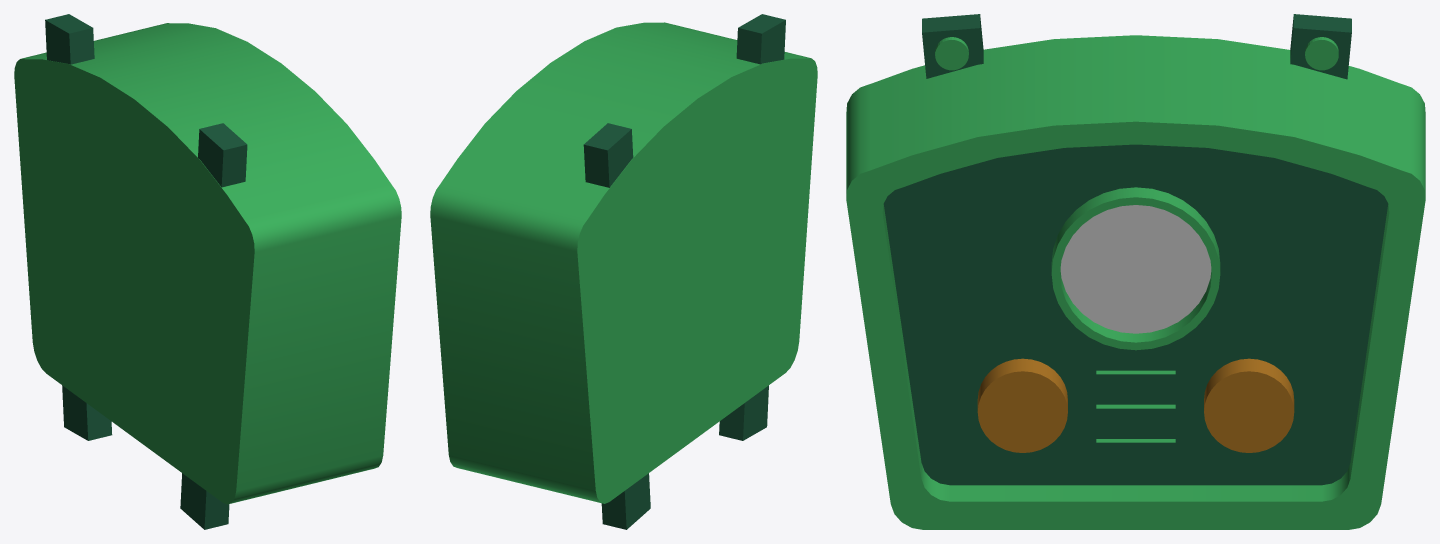
The model's file is Electricidad 1.obj.
The picture shows the model from 3 angles, left to right: view 1: azimuth 30°, elevation 25°; view 2: azimuth 150°, elevation 25°; view 3: azimuth 270°, elevation 25°; orthographic projection. The views are drawn at different scales.
Visible parts, largest first — view 1: Cube.004; view 2: Cube.004; view 3: Cube.004.
Part boxes in pixels (box(x1,y1,x2,y2)): Cube.004: box(14, 14, 401, 529); Cube.004: box(430, 14, 817, 529); Cube.004: box(846, 14, 1425, 529).
Bounding box in the file's own units: 0.5423 × 1.4 × 1.54.
